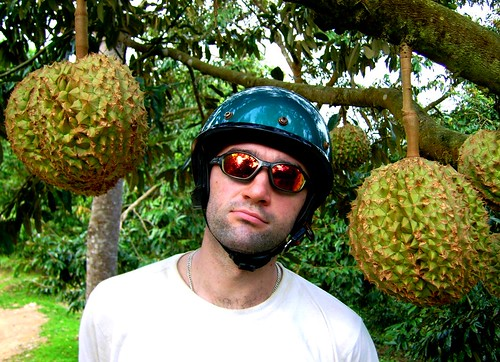helmet: (189, 80, 345, 162)
